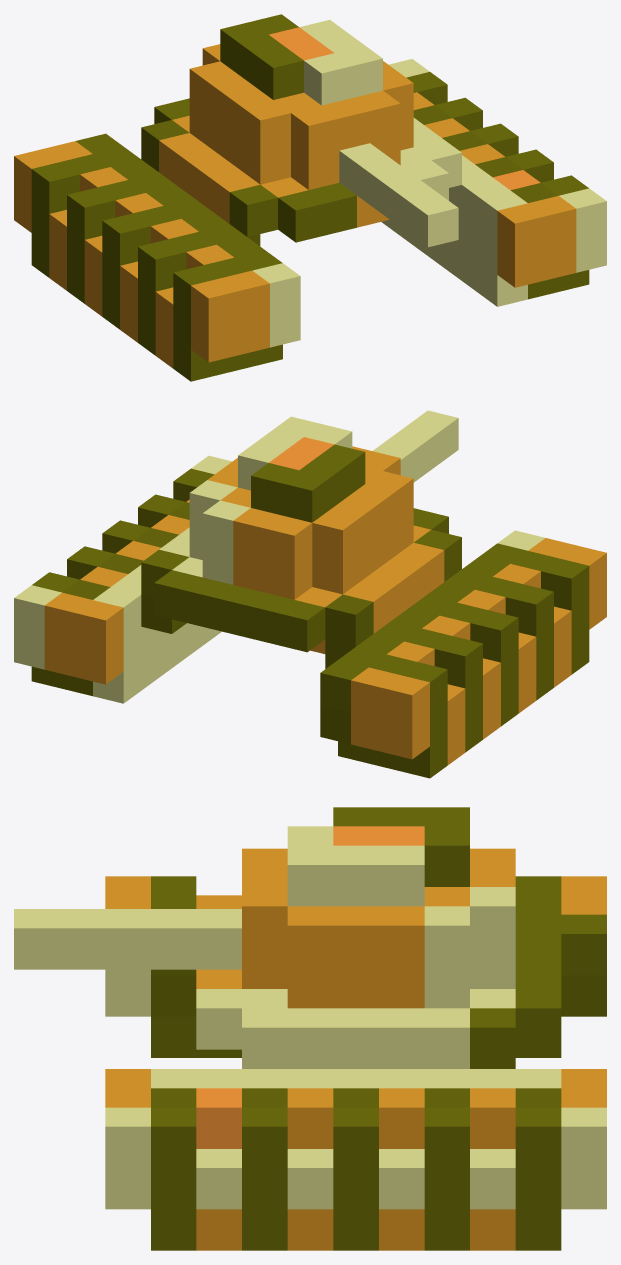
The model's file is YellowTankT1.fbx.
3 views of the same model, one above another, from view 1: azimuth 30°, elevation 25°; view 2: azimuth 150°, elevation 25°; view 3: azimuth 270°, elevation 25° (orthographic). The views are drawn at different scales.
Parts seen in each view (by area): view 1: BC1.001; view 2: BC1.001; view 3: BC1.001.
Part boxes in pixels (x1=…): BC1.001: x1=14, y1=14, x2=606, y2=381; BC1.001: x1=14, y1=410, x2=606, y2=778; BC1.001: x1=14, y1=807, x2=606, y2=1250.
Bounding box in the file's own units: 1300 × 700 × 1300.
